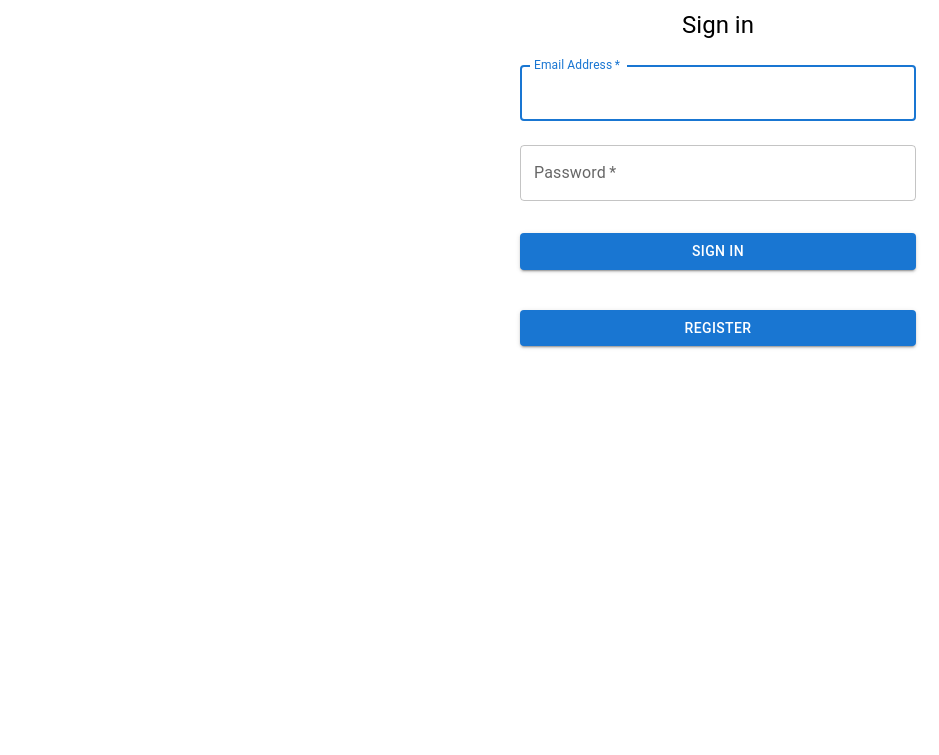
Test case: <Login> › displays an error message if the login fails
Type "wrong@example.com" into the field labelled "Email Address *".
click(718, 93); type("wrong@example.com")  # box [520,65,916,121]
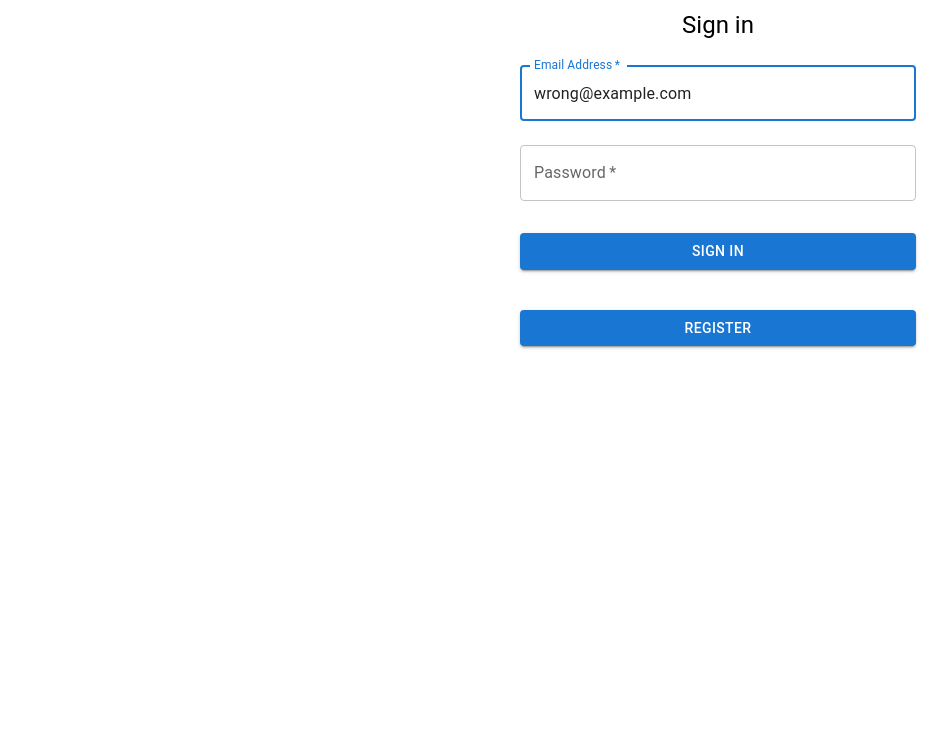
Type "wrongpassword" into the password field labelled "Password *".
click(718, 173); type("wrongpassword")  # box [520,145,916,201]
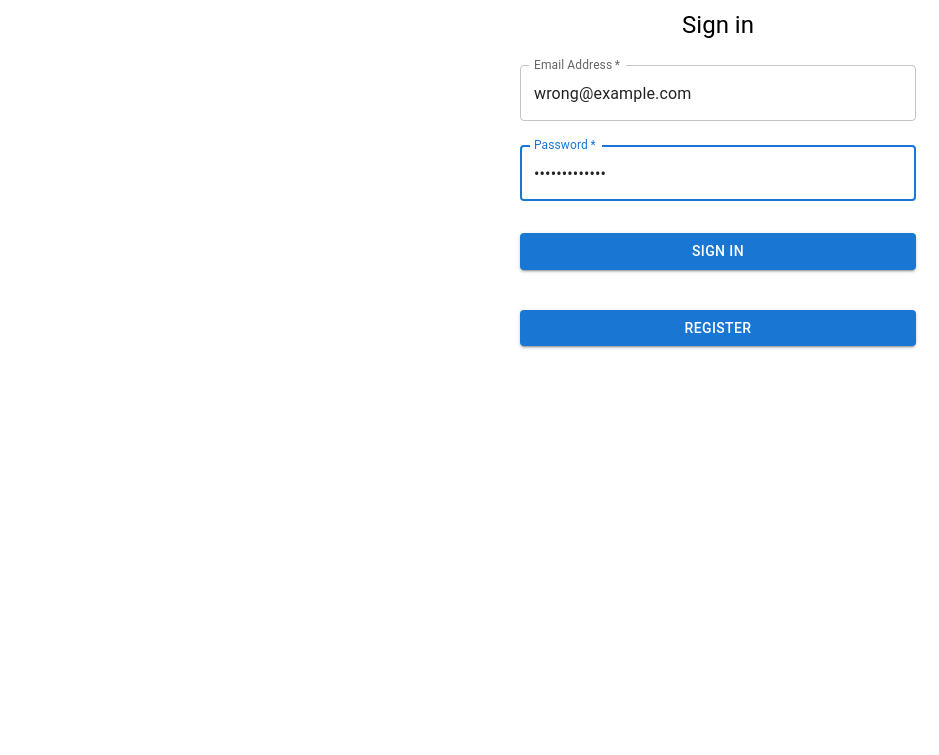
Click the button "Sign In".
click(718, 251)  # box [520,233,916,270]
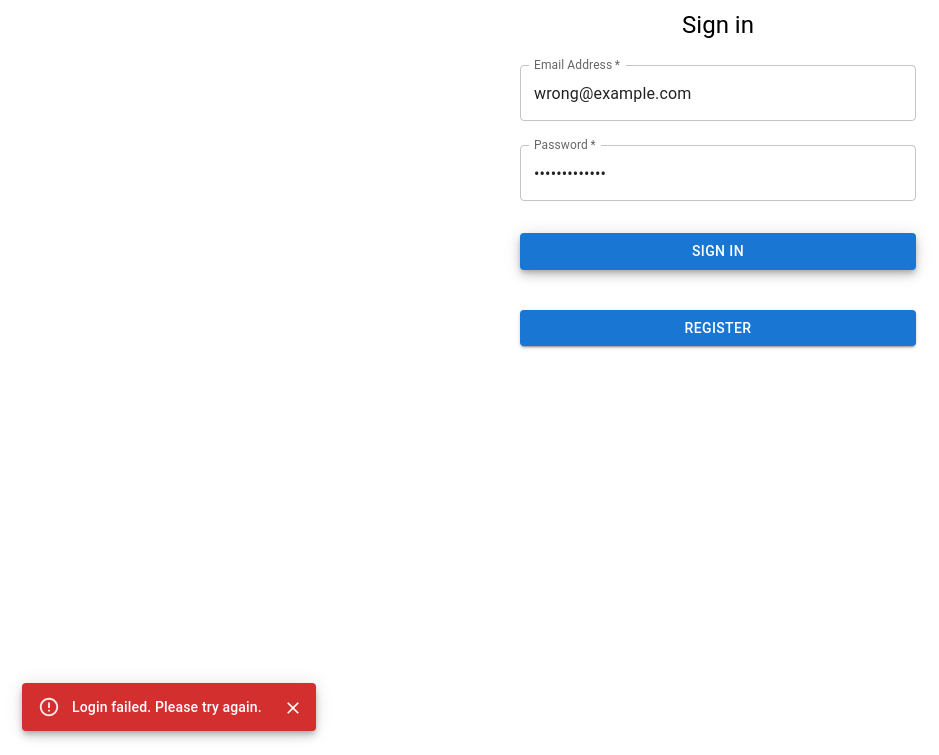
Now the text "Login failed. Please try again." is shown, box [72,699,262,715]
